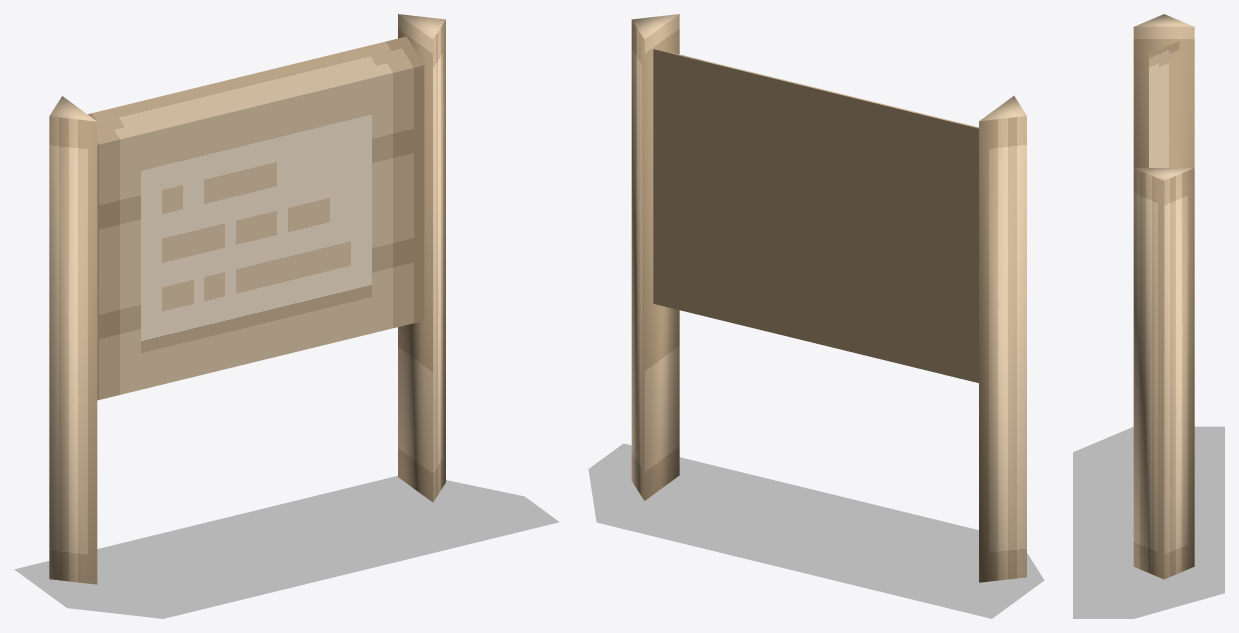
The model's file is sign04.dae.
3 views of the same model, side by side, from view 1: azimuth 30°, elevation 25°; view 2: azimuth 150°, elevation 25°; view 3: azimuth 270°, elevation 25° (orthographic). The views are drawn at different scales.
Parts seen in each view (by area): view 1: sign04; view 2: sign04; view 3: sign04.
Boxes of the visible parts, bbox=[...] form: sign04: bbox=[14, 14, 559, 618]; sign04: bbox=[588, 14, 1044, 618]; sign04: bbox=[1073, 14, 1224, 618].
Bounding box in the file's own units: 30 × 30 × 10.
